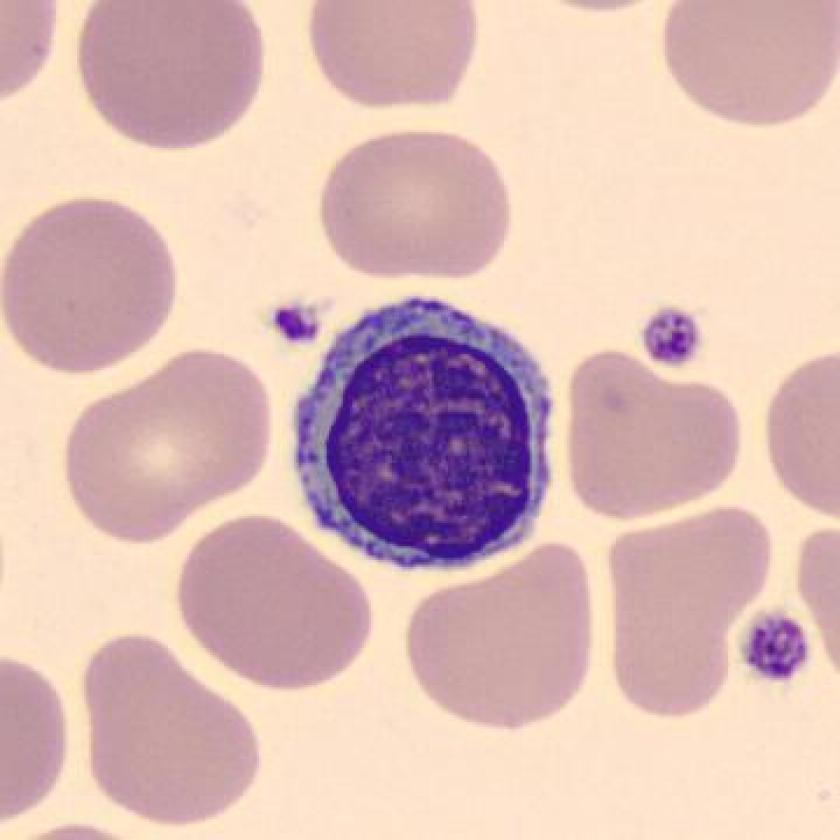lymphocyte: (279, 279, 570, 593)
platelets: (741, 605, 812, 693), (634, 298, 709, 375), (265, 298, 329, 346)
